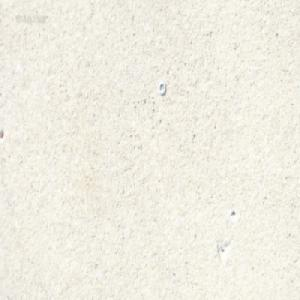Washer: (157, 82, 165, 96)
